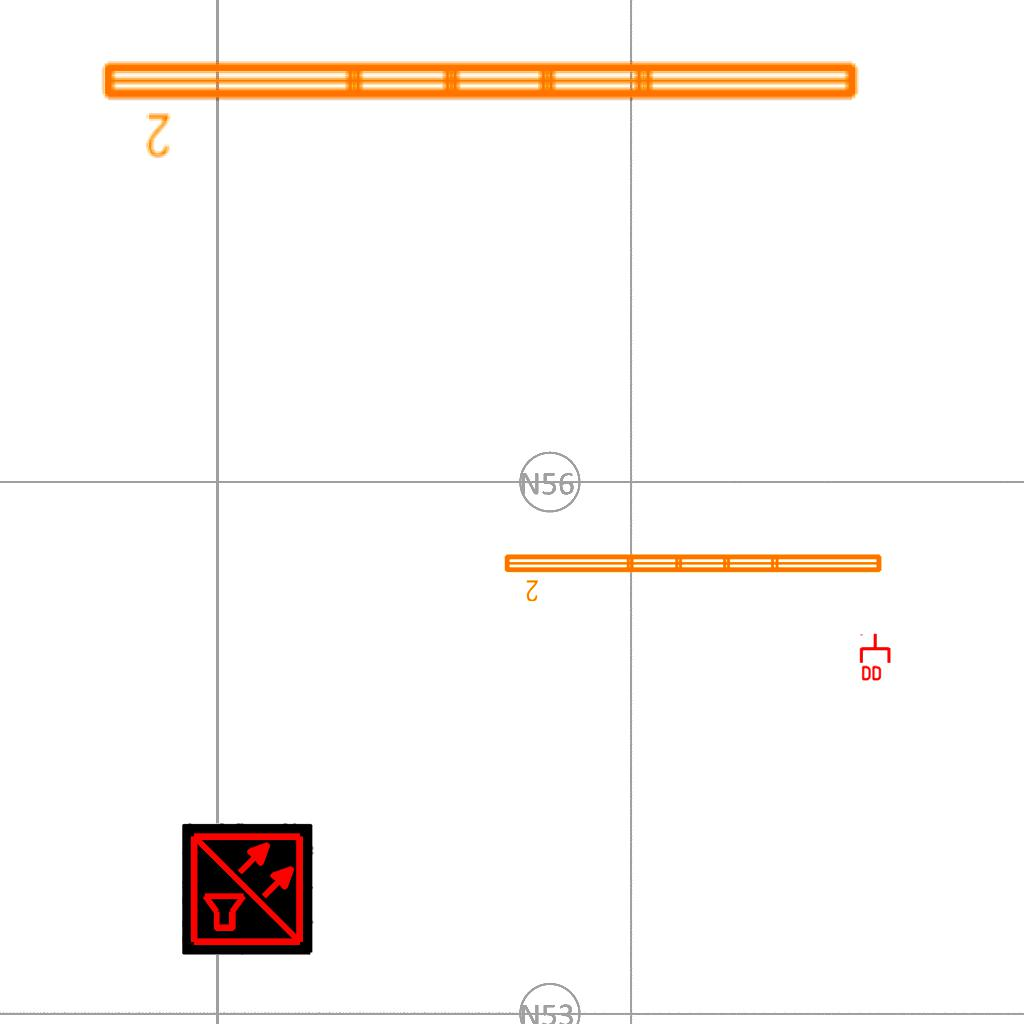Ambulanz_Pendelleuchte_LED: (94, 50, 868, 162), (500, 548, 887, 604)
Datenanschluss_zweifach: (859, 632, 893, 683)
OKW_Multisensormelder_(Kombination_optischer_Rauch-Kahlenmonoxid_Waerme-Melder): (182, 823, 314, 955)
